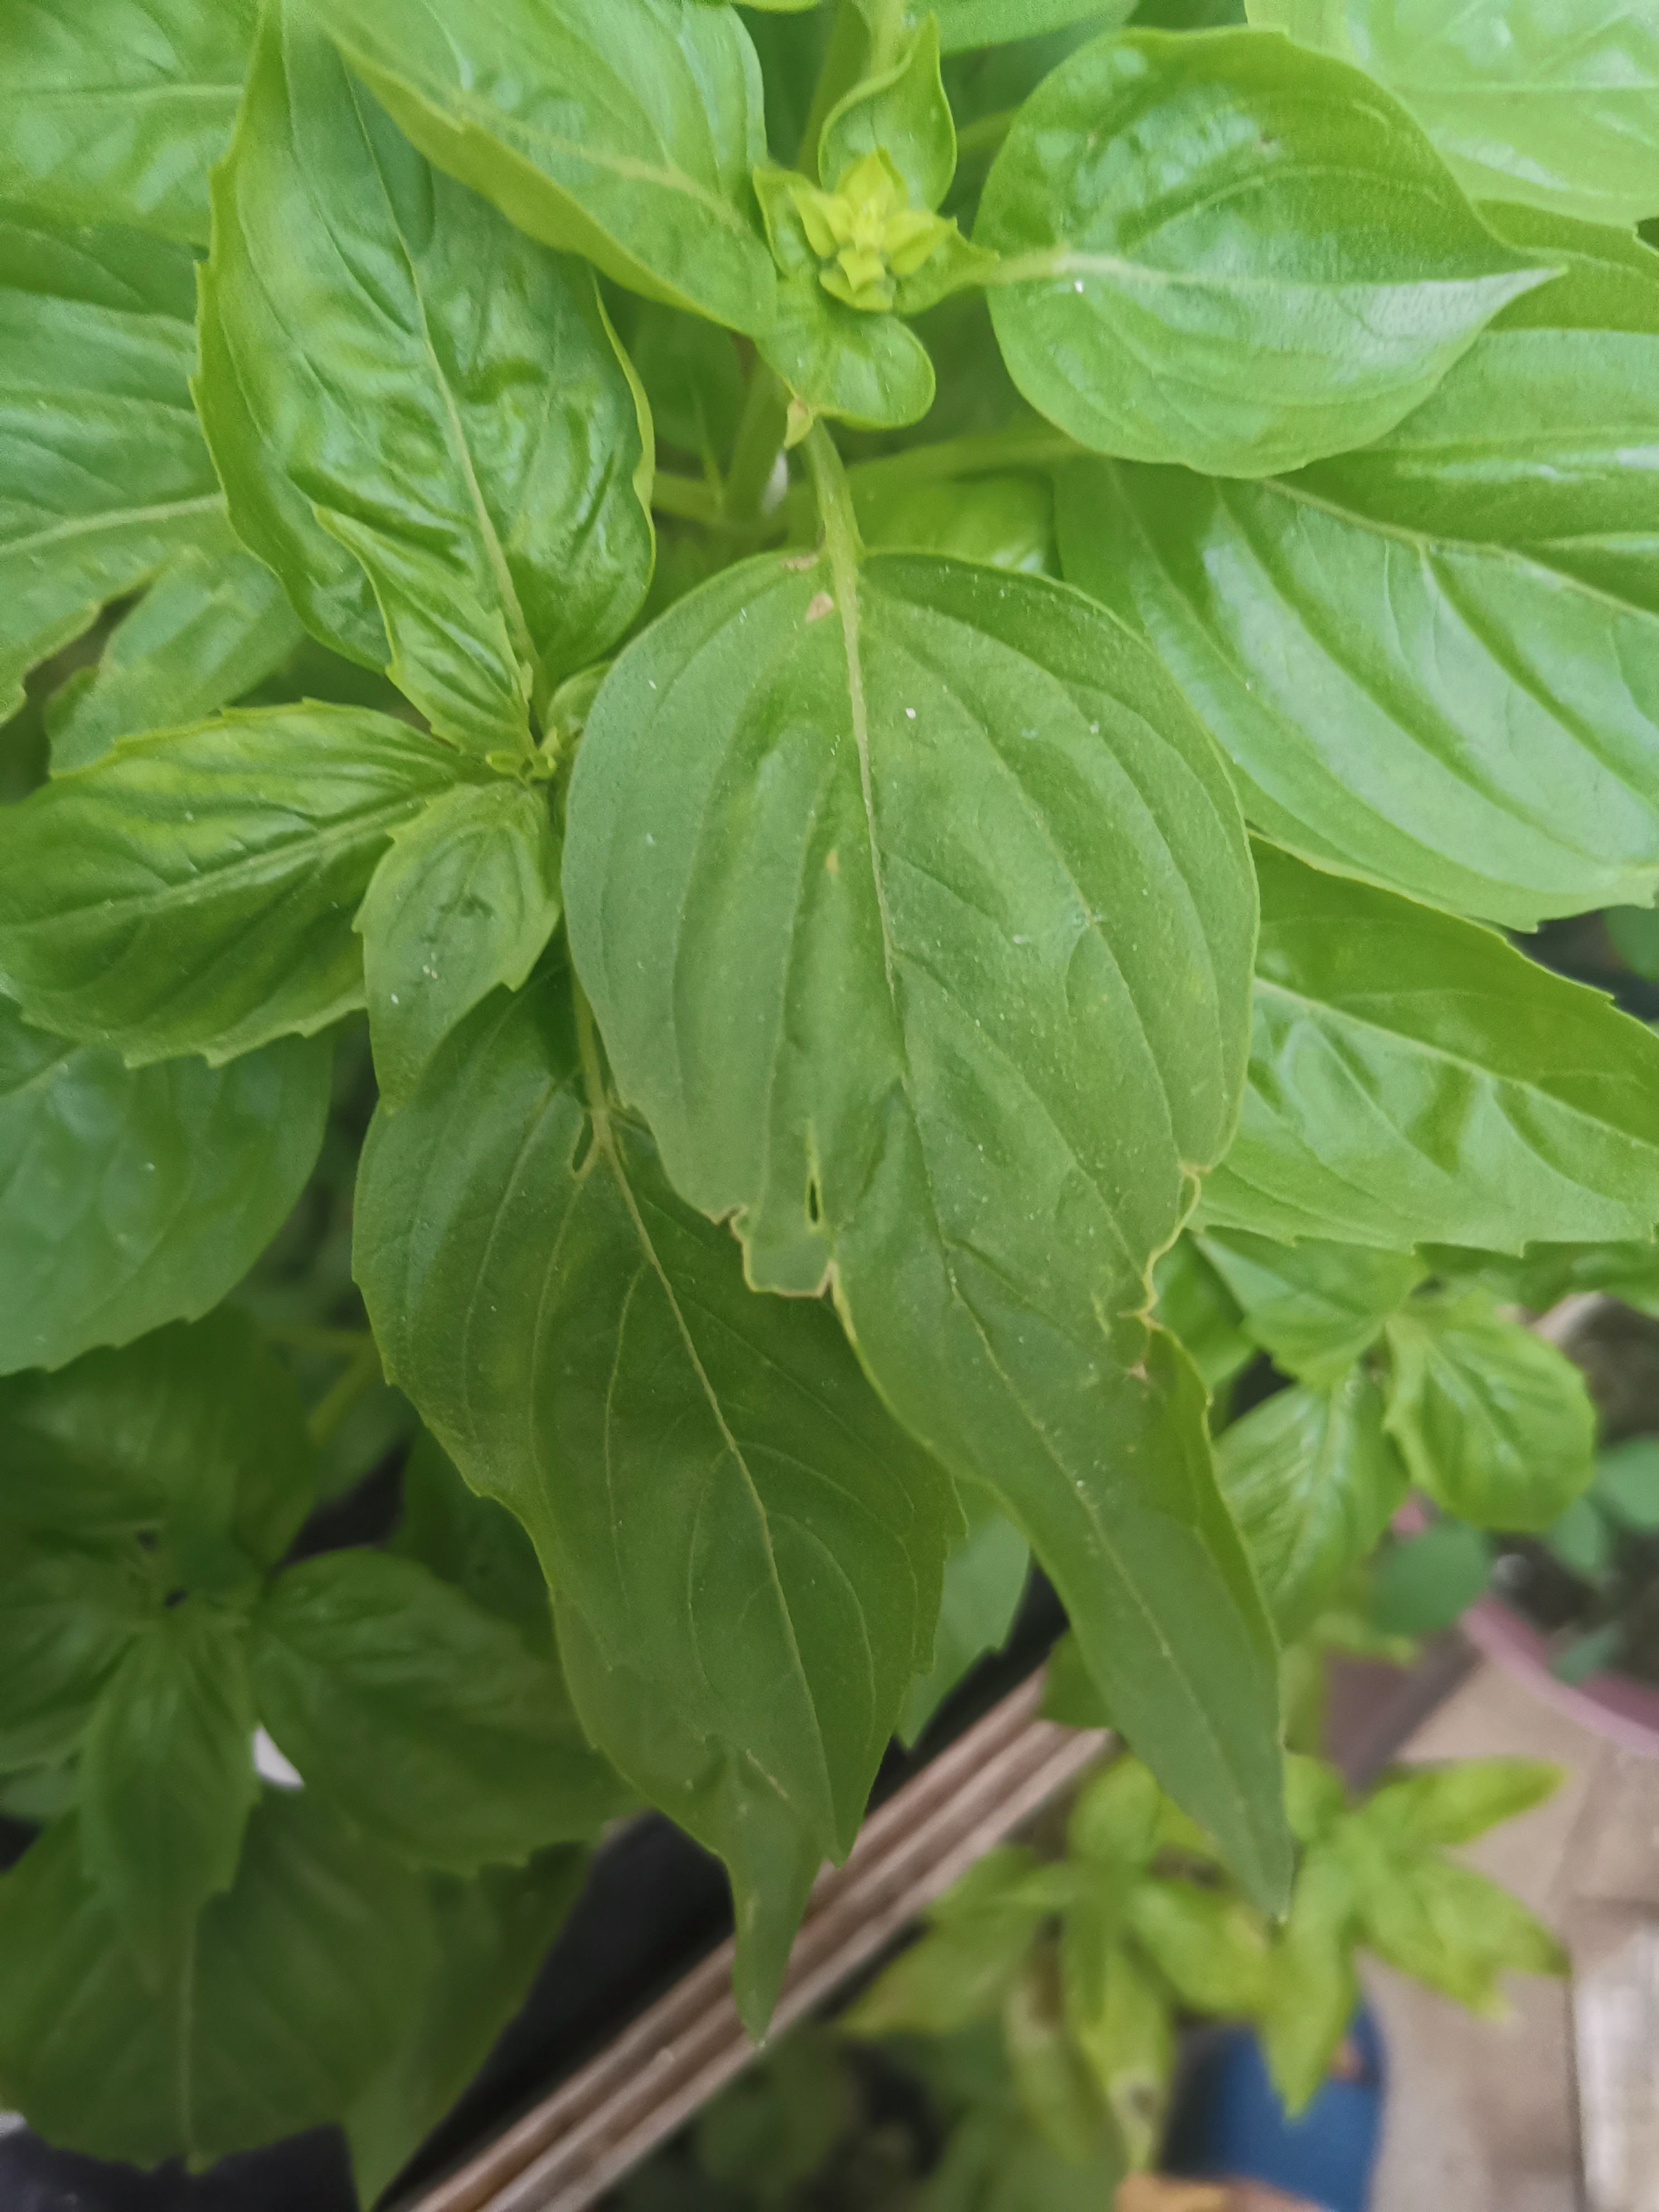Basil_healthy: (603, 531, 1324, 1952), (342, 1019, 1014, 2022), (1060, 127, 1659, 942), (181, 19, 666, 712), (983, 9, 1582, 470), (0, 688, 467, 1085)
